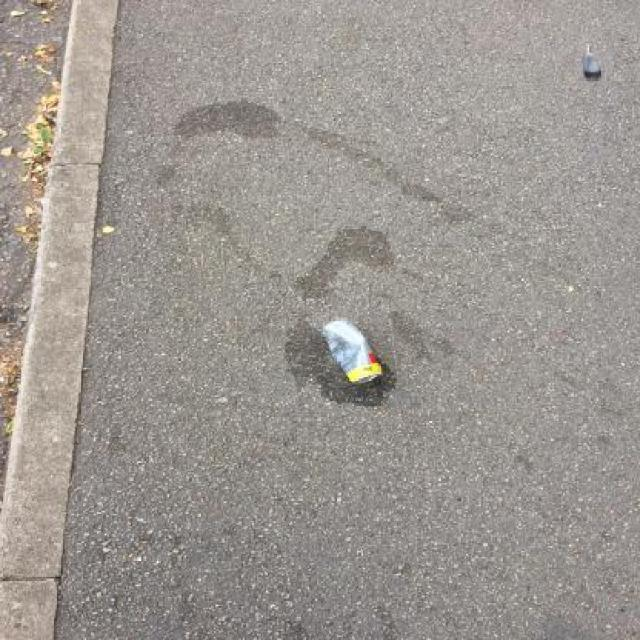metal: (319, 316, 382, 382)
